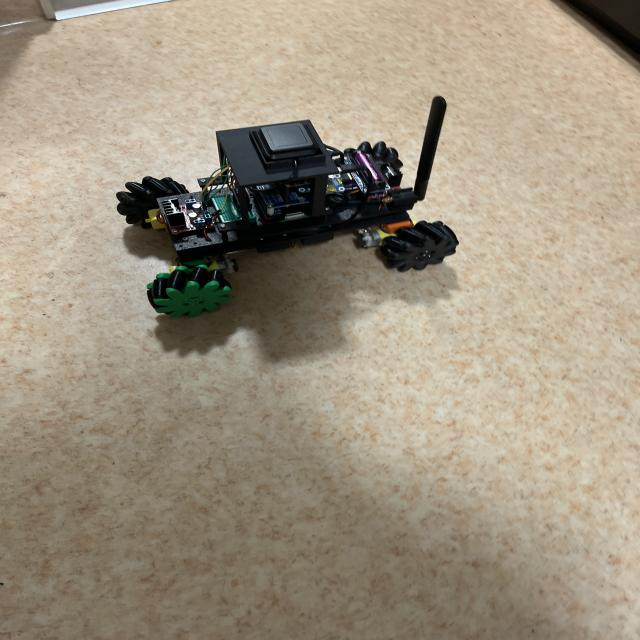robot: (116, 96, 458, 317)
